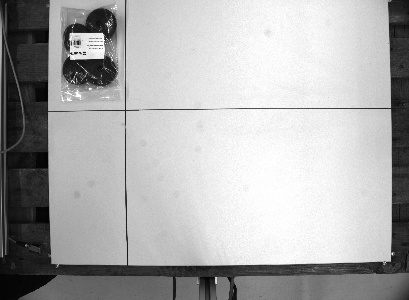t1: (57, 2, 123, 103)
